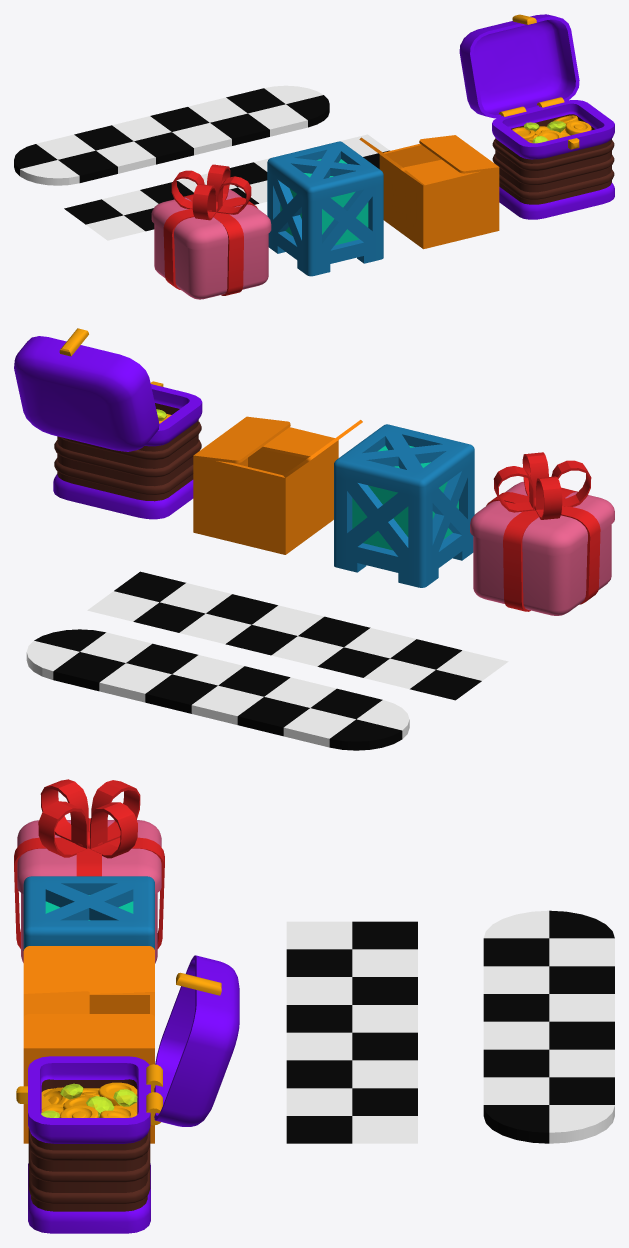
Rendered from Boxes.fbx.
3 renders of one model, top to bottom at view 1: azimuth 30°, elevation 25°; view 2: azimuth 150°, elevation 25°; view 3: azimuth 270°, elevation 25°, orthographic. The views are drawn at different scales.
Visible parts, largest first — view 1: Plane.001, Cube.001, Cube.003, Cube.002, Cube, Cube.004, Plane; view 2: Plane.001, Plane, Cube.001, Cube.002, Cube, Cube.004, Cube.003; view 3: Plane, Plane.001, Cube.003, Cube, Cube.002, Cube.004, Cube.001.
Boxes of the visible parts, x1,y1,x2,y2 form: Plane.001: (14,85,329,185); Cube.001: (267,141,383,276); Cube.003: (492,97,614,219); Cube.002: (151,164,271,299); Cube: (359,135,499,249); Cube.004: (459,14,579,118); Plane: (64,134,389,240); Plane.001: (26,629,409,750); Plane: (87,571,508,700); Cube.001: (334,424,474,587); Cube.002: (470,452,614,615); Cube: (193,416,362,554); Cube.004: (14,328,159,451); Cube.003: (53,381,202,519); Plane: (286,921,417,1143); Plane.001: (483,910,614,1143); Cube.003: (16,1056,162,1233); Cube: (23,946,154,1143); Cube.002: (14,779,164,963); Cube.004: (154,955,239,1126); Cube.001: (23,876,154,950).
Size of the model in its own units: 1148 by 391 by 915.
